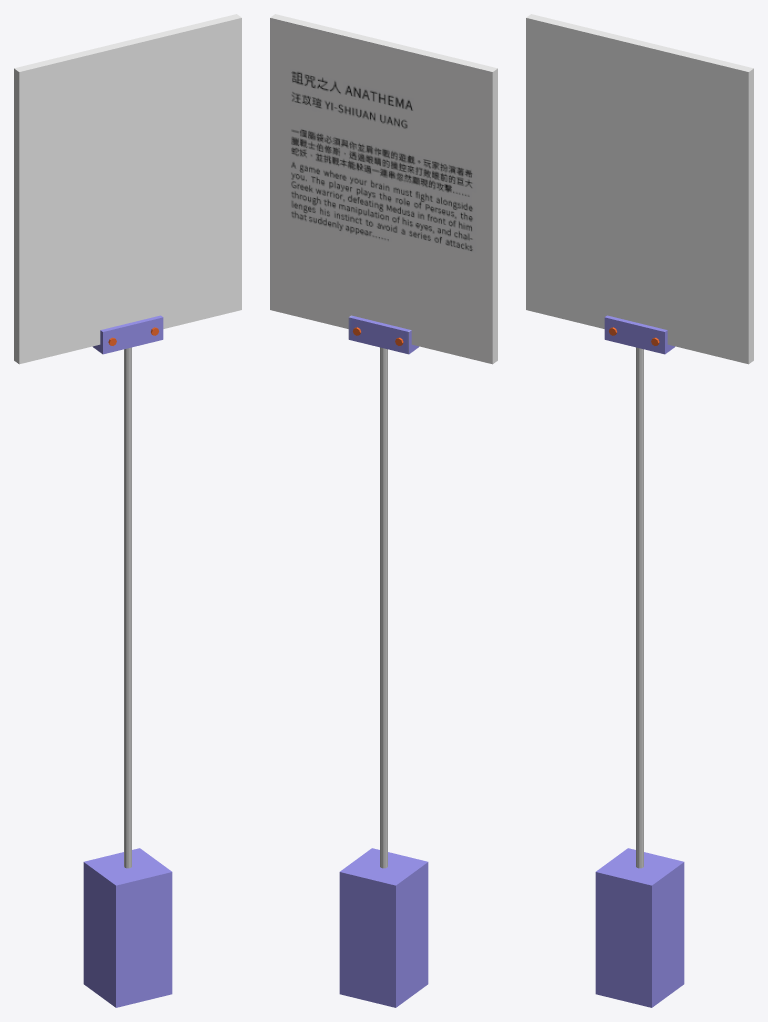
The model's file is work_sign15.fbx.
The picture shows the model from 3 angles, left to right: view 1: azimuth 30°, elevation 25°; view 2: azimuth 150°, elevation 25°; view 3: azimuth 330°, elevation 25°; orthographic projection.
Visible parts, largest first — view 1: work_detail_15, work_sign; view 2: work_detail_15, work_sign; view 3: work_detail_15, work_sign.
Part boxes in pixels (x1,y1,x2,y2): work_detail_15: [14, 14, 241, 364]; work_sign: [83, 315, 172, 1007]; work_detail_15: [270, 14, 497, 364]; work_sign: [339, 315, 428, 1007]; work_detail_15: [526, 14, 753, 364]; work_sign: [595, 315, 684, 1007].
Size of the model in its own units: 42.19 by 171 by 10.67.
Materials: 1 (1 with a texture image).
